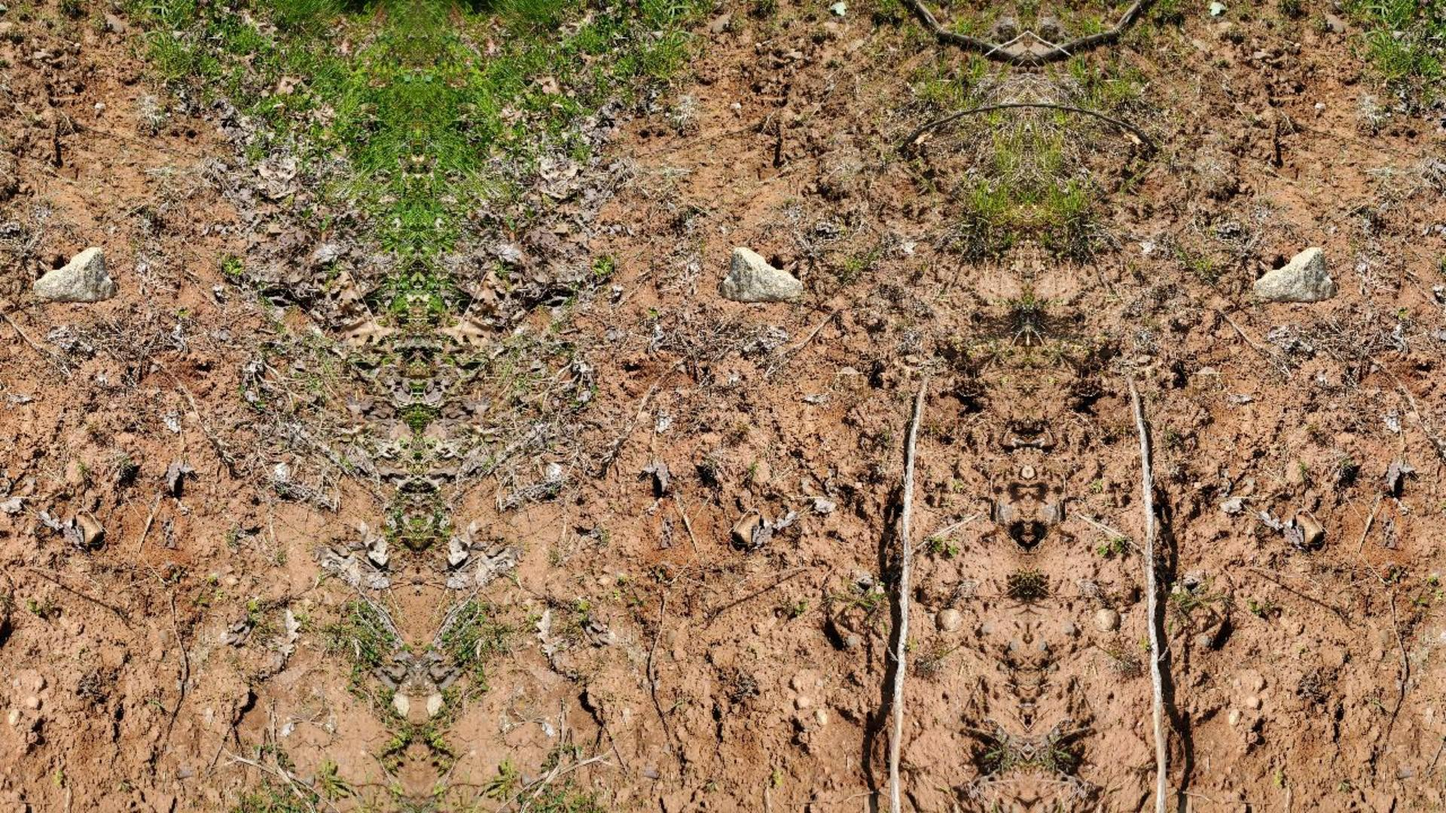rock: (720, 246, 802, 301), (33, 247, 115, 301), (1253, 247, 1335, 301)
